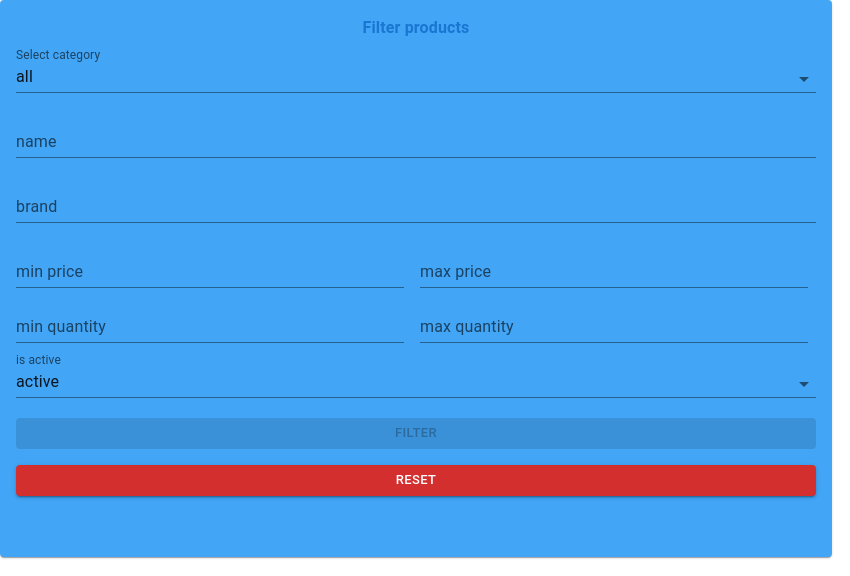
Test: ProductFilterForms › should clear form in case of reset btn clicked
The image size is (850, 576).
Type "test-name-string" into the field labelled "min quantity".
click(210, 328); type("test-name-string")  # box left=16, top=314, right=404, bottom=343
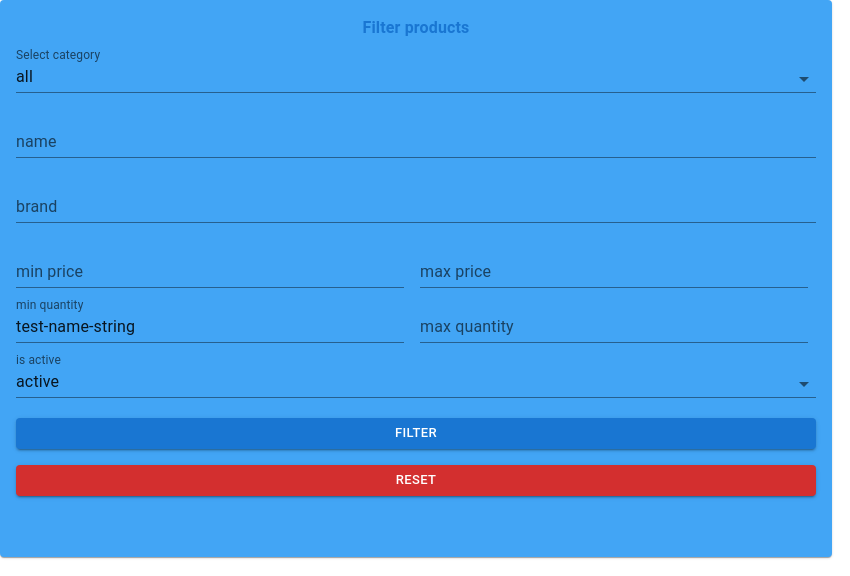
Click the button with test id "reset-btn".
click(416, 480)  # box left=16, top=465, right=816, bottom=496
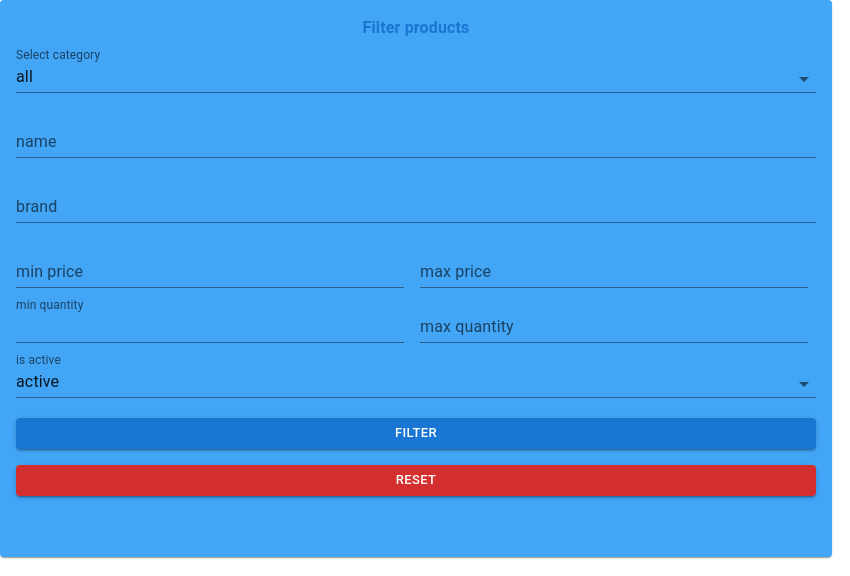
Now the field labelled "min quantity" is empty, box left=16, top=314, right=404, bottom=343
